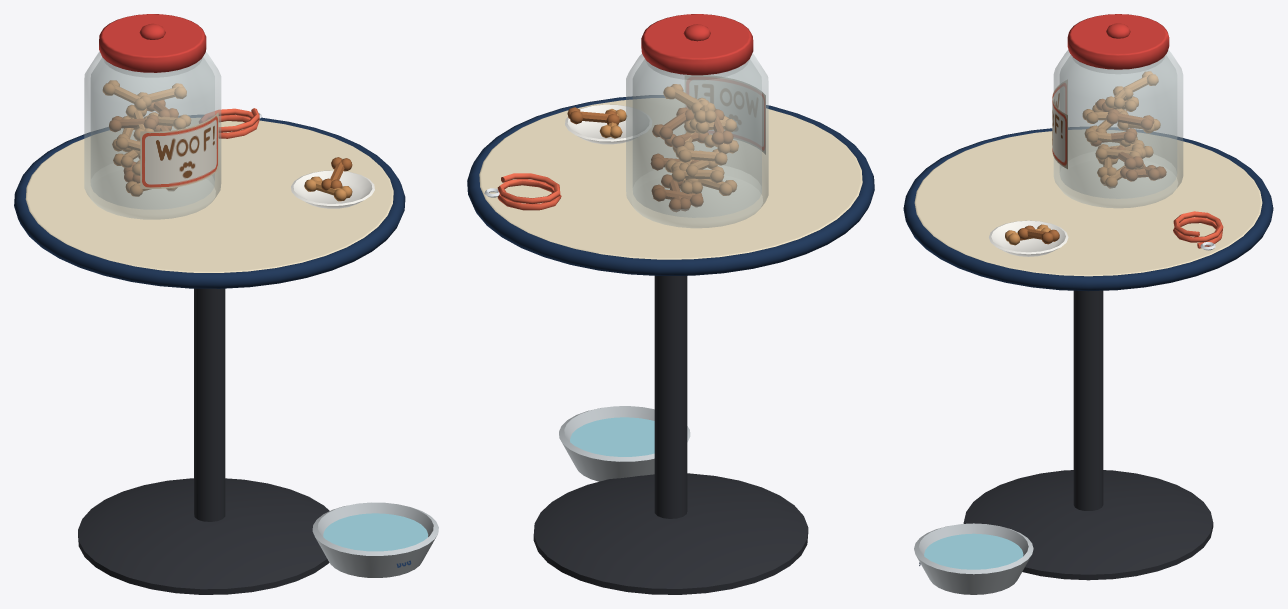
Rendered from treat_table.glb.
3 views of the same model, side by side, from view 1: azimuth 30°, elevation 25°; view 2: azimuth 150°, elevation 25°; view 3: azimuth 270°, elevation 25° (orthographic). The views are drawn at different scales.
Parts seen in each view (by area): view 1: TreatTableMesh, Glass_Jar; view 2: TreatTableMesh, Glass_Jar; view 3: TreatTableMesh, Glass_Jar.
Boxes of the visible parts, left/top/right/bottom form: TreatTableMesh: left=14, top=14, right=438, bottom=594; Glass_Jar: left=84, top=52, right=221, bottom=219; TreatTableMesh: left=467, top=14, right=874, bottom=594; Glass_Jar: left=626, top=53, right=768, bottom=228; TreatTableMesh: left=903, top=14, right=1273, bottom=594; Glass_Jar: left=1053, top=50, right=1183, bottom=208.
Size of the model in its own units: 0.742 by 1.07 by 0.742.
14 materials, 1 textured.
